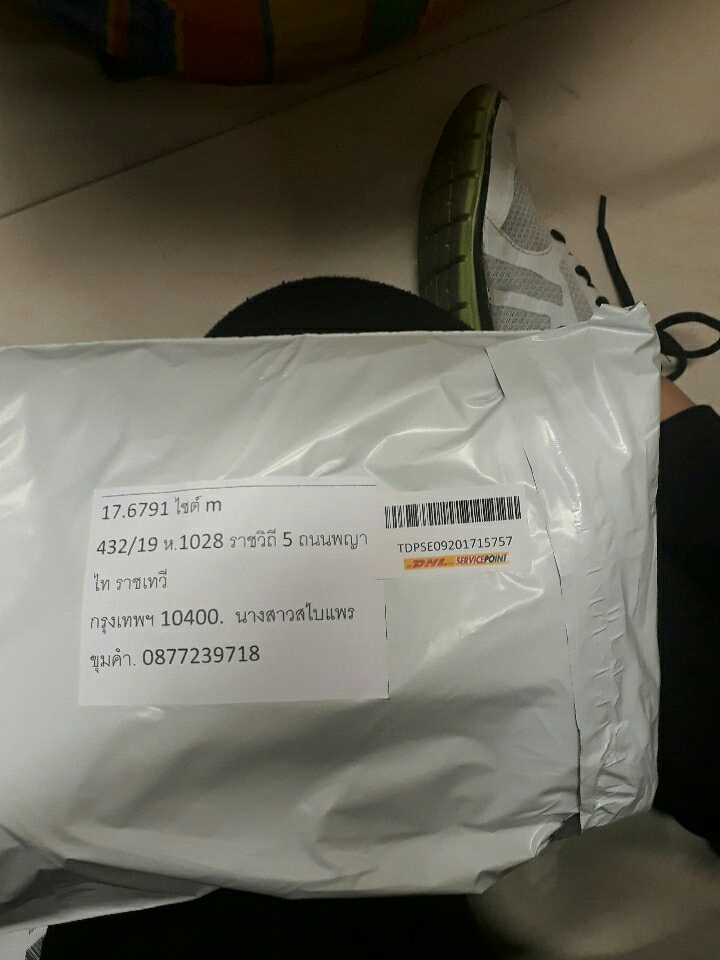ba: (372, 488, 553, 575)
txt: (83, 525, 376, 683)
